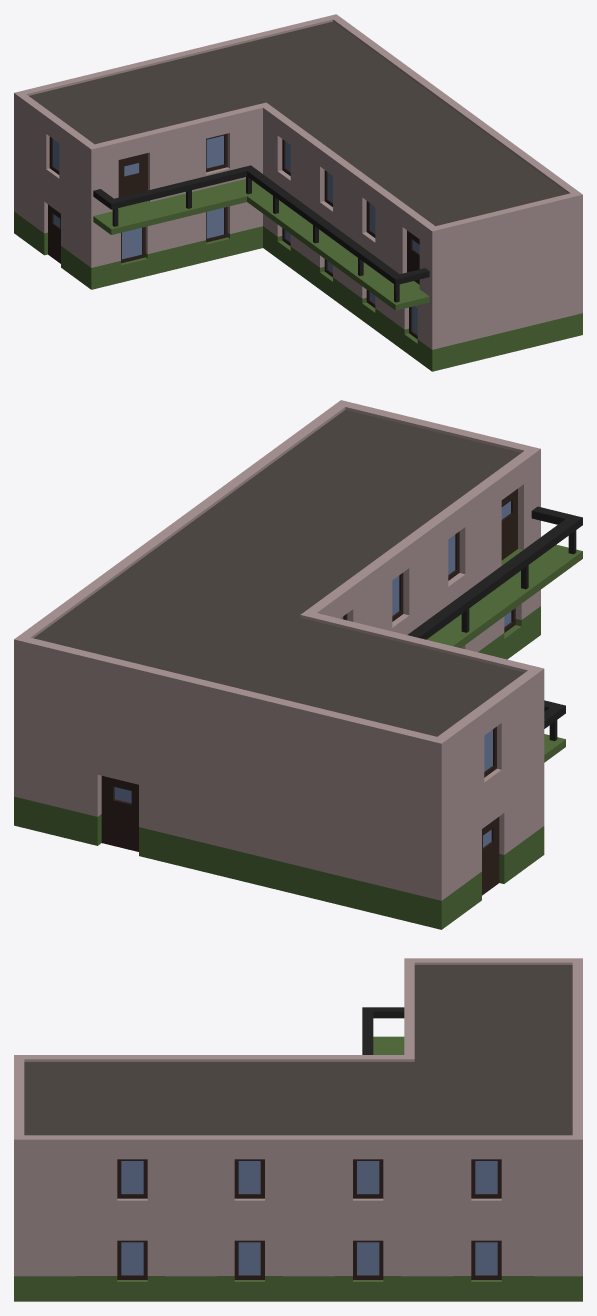
The model's file is Motel_01.fbx.
3 views of the same model, one above another, from view 1: azimuth 30°, elevation 25°; view 2: azimuth 150°, elevation 25°; view 3: azimuth 270°, elevation 25° (orthographic). The views are drawn at different scales.
Parts seen in each view (by area): view 1: Motel_01; view 2: Motel_01; view 3: Motel_01.
Boxes of the visible parts, x1,y1,x2,y2 form: Motel_01: (14,14,582,371); Motel_01: (14,400,582,929); Motel_01: (14,958,582,1301).
Bounding box in the file's own units: 15.8 × 6.57 × 20.93.
